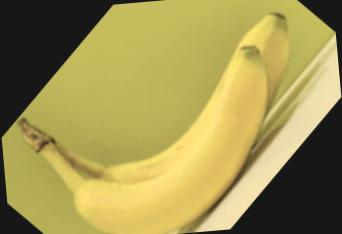Banana Ripe: (0, 0, 324, 234)
